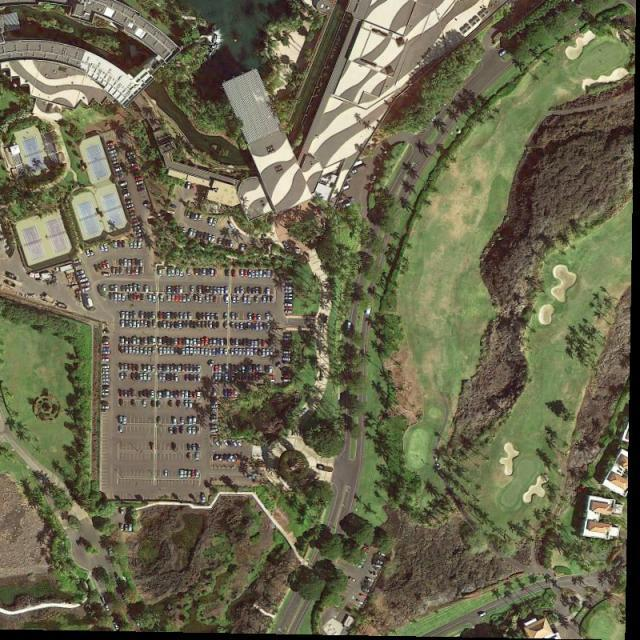vehicle: (349, 161, 364, 169), (353, 165, 366, 174), (87, 295, 94, 308), (6, 279, 16, 287), (355, 559, 366, 566), (366, 302, 372, 314), (499, 50, 508, 58), (374, 559, 384, 566), (354, 563, 364, 570), (363, 542, 373, 549), (340, 186, 350, 193), (357, 598, 365, 606), (229, 222, 237, 230), (430, 114, 438, 122), (440, 101, 448, 109), (129, 154, 138, 161), (57, 302, 66, 309), (81, 281, 90, 288), (378, 551, 387, 558), (343, 202, 352, 209), (126, 151, 136, 157), (223, 454, 230, 462), (219, 454, 226, 462), (214, 454, 222, 461), (94, 265, 101, 273), (362, 546, 370, 553), (371, 175, 378, 183), (131, 161, 140, 167), (8, 274, 17, 280), (78, 274, 87, 280), (212, 218, 218, 227), (188, 229, 194, 238), (211, 235, 217, 244), (362, 587, 371, 593), (363, 580, 372, 586), (358, 556, 367, 562), (133, 292, 138, 302), (232, 441, 239, 448), (214, 440, 221, 447), (98, 264, 105, 271), (360, 593, 367, 600), (100, 244, 106, 252), (114, 622, 120, 630), (170, 204, 178, 210), (366, 576, 374, 582), (374, 563, 382, 569), (349, 577, 357, 583), (368, 184, 374, 192), (479, 612, 487, 618), (195, 452, 200, 461), (119, 399, 124, 408), (107, 142, 116, 147), (120, 182, 129, 187), (76, 270, 85, 275), (196, 231, 201, 240), (203, 232, 208, 241), (133, 311, 138, 320), (347, 322, 352, 331), (225, 287, 230, 296), (241, 287, 246, 296), (171, 268, 176, 277), (187, 268, 192, 277), (122, 596, 128, 603), (232, 455, 238, 462), (228, 455, 234, 462), (237, 441, 243, 448), (117, 171, 124, 177), (192, 230, 198, 237), (102, 263, 108, 270), (347, 177, 354, 183), (240, 245, 246, 252), (152, 321, 158, 328), (193, 417, 198, 425), (170, 374, 175, 382), (147, 374, 152, 382), (143, 374, 148, 382), (108, 146, 116, 151), (110, 153, 118, 158), (114, 163, 122, 168), (126, 200, 134, 205), (138, 185, 146, 190), (136, 177, 144, 182), (132, 166, 140, 171), (186, 182, 191, 190), (190, 184, 195, 192), (130, 214, 138, 219), (134, 222, 142, 227), (74, 258, 82, 263), (82, 286, 90, 291), (209, 218, 214, 226), (198, 295, 203, 303), (225, 296, 230, 304), (172, 286, 177, 294), (190, 286, 195, 294), (125, 312, 130, 320), (174, 313, 179, 321), (167, 294, 172, 302), (194, 268, 199, 276), (233, 270, 238, 278), (244, 270, 249, 278), (271, 270, 276, 278), (210, 360, 215, 368), (252, 365, 257, 373), (248, 322, 253, 330), (235, 339, 240, 347), (276, 363, 282, 369), (116, 167, 122, 173), (79, 278, 88, 282), (90, 249, 96, 255), (124, 258, 128, 267), (130, 293, 134, 302), (137, 293, 141, 302), (226, 239, 230, 248), (127, 267, 131, 276), (131, 267, 135, 276), (163, 312, 167, 321), (170, 312, 174, 321), (180, 268, 184, 277), (252, 270, 256, 279), (230, 241, 234, 250), (262, 349, 266, 358), (194, 365, 198, 374), (163, 321, 167, 330), (224, 440, 229, 447), (169, 427, 174, 434), (197, 392, 202, 399), (185, 375, 190, 382), (231, 375, 236, 382), (255, 374, 260, 381), (127, 204, 134, 209), (111, 157, 118, 162), (124, 193, 131, 198), (132, 218, 139, 223), (133, 285, 138, 292), (105, 605, 110, 612), (136, 620, 141, 627), (164, 470, 169, 477), (136, 260, 141, 267), (194, 214, 199, 221), (198, 215, 203, 222), (199, 232, 204, 239), (186, 295, 191, 302), (140, 312, 145, 319), (152, 313, 157, 320), (160, 295, 165, 302), (255, 288, 260, 295), (266, 289, 271, 296), (265, 366, 270, 373), (231, 339, 236, 346), (102, 389, 110, 393), (102, 402, 110, 406), (124, 417, 128, 425), (158, 417, 162, 425), (102, 358, 110, 362), (102, 354, 110, 358), (103, 338, 111, 342), (190, 401, 194, 409), (185, 401, 189, 409), (143, 400, 147, 408), (174, 418, 178, 426), (188, 427, 192, 435), (211, 409, 219, 413), (175, 374, 179, 382), (222, 374, 226, 382), (226, 374, 230, 382), (239, 374, 243, 382), (162, 374, 166, 382), (166, 374, 170, 382), (151, 390, 155, 398), (182, 391, 186, 399), (214, 389, 218, 397), (224, 390, 228, 398), (158, 391, 162, 399), (143, 390, 147, 398), (133, 390, 137, 398), (120, 390, 124, 398), (125, 364, 129, 372), (188, 470, 192, 478), (144, 202, 152, 206), (130, 241, 134, 249), (105, 243, 109, 251), (181, 470, 185, 478), (122, 294, 126, 302), (110, 294, 114, 302), (114, 294, 118, 302), (118, 294, 122, 302), (149, 294, 153, 302), (202, 494, 206, 502), (128, 259, 132, 267), (134, 230, 142, 234), (218, 238, 222, 246), (222, 238, 226, 246), (106, 262, 110, 270), (103, 273, 111, 277), (120, 267, 124, 275), (170, 365, 174, 373), (285, 306, 293, 310), (206, 295, 210, 303), (248, 297, 252, 305), (286, 310, 294, 314), (285, 303, 293, 307), (286, 286, 294, 290), (180, 286, 184, 294), (198, 286, 202, 294), (202, 286, 206, 294), (206, 286, 210, 294), (258, 314, 262, 322), (254, 314, 258, 322), (122, 312, 126, 320), (145, 312, 149, 320), (167, 313, 171, 321), (176, 294, 180, 302), (172, 294, 176, 302), (434, 454, 438, 462), (176, 268, 180, 276), (199, 268, 203, 276), (210, 269, 214, 277), (268, 270, 272, 278), (266, 314, 270, 322), (174, 347, 178, 355), (178, 348, 182, 356), (186, 348, 190, 356), (163, 348, 167, 356), (246, 349, 250, 357), (250, 349, 254, 357), (266, 349, 270, 357), (262, 340, 266, 348), (258, 340, 262, 348), (285, 334, 293, 338), (159, 348, 163, 356), (186, 365, 190, 373), (242, 366, 246, 374), (215, 366, 219, 374), (218, 366, 222, 374), (222, 366, 226, 374), (283, 358, 291, 362), (132, 347, 136, 355), (148, 348, 152, 356), (125, 338, 129, 346), (256, 323, 260, 331), (137, 321, 141, 329), (158, 321, 162, 329), (167, 322, 171, 330), (178, 321, 182, 329), (122, 320, 126, 328), (217, 322, 221, 330), (225, 322, 229, 330), (129, 338, 133, 346), (133, 338, 137, 346), (145, 338, 149, 346), (149, 338, 153, 346), (153, 338, 157, 346), (158, 338, 162, 346), (162, 338, 166, 346), (167, 338, 171, 346), (183, 338, 187, 346), (258, 348, 262, 356), (248, 339, 252, 347), (228, 442, 234, 447), (114, 160, 120, 165), (119, 174, 125, 179), (129, 208, 135, 213), (130, 211, 136, 216), (140, 189, 146, 194), (190, 214, 195, 220), (436, 464, 441, 470), (356, 603, 362, 608), (248, 288, 253, 294), (238, 350, 243, 356), (103, 378, 110, 382), (103, 386, 110, 390), (103, 406, 110, 410), (119, 426, 123, 433), (103, 347, 110, 351), (103, 342, 110, 346), (103, 330, 110, 334), (178, 401, 182, 408), (158, 402, 162, 409), (196, 471, 200, 478), (189, 453, 193, 460), (188, 444, 192, 451), (174, 427, 178, 434), (181, 427, 185, 434), (211, 429, 218, 433), (211, 418, 218, 422), (132, 399, 136, 406), (249, 374, 253, 381), (190, 375, 194, 382), (197, 375, 201, 382), (215, 374, 219, 381), (235, 375, 239, 382), (129, 364, 133, 371), (133, 364, 137, 371), (143, 366, 147, 373), (158, 365, 162, 372), (178, 392, 182, 399), (174, 391, 178, 398), (170, 391, 174, 398), (139, 391, 143, 398), (121, 364, 125, 371), (136, 374, 140, 381), (192, 471, 196, 478), (110, 150, 117, 154), (122, 190, 129, 194), (134, 242, 138, 249), (137, 181, 144, 185), (135, 174, 142, 178), (138, 242, 142, 249), (122, 241, 126, 248), (134, 226, 141, 230), (120, 259, 124, 266), (132, 260, 136, 267), (153, 295, 157, 302), (129, 524, 133, 531), (182, 228, 186, 235), (187, 211, 191, 218), (116, 268, 120, 275), (210, 295, 214, 302), (243, 297, 247, 304), (263, 296, 267, 303), (267, 296, 271, 303), (271, 296, 275, 303), (183, 295, 187, 302), (286, 290, 293, 294), (167, 286, 171, 293), (210, 287, 214, 294), (249, 314, 253, 321), (231, 313, 235, 320), (189, 313, 193, 320), (197, 313, 201, 320), (206, 313, 210, 320), (222, 288, 226, 295), (236, 288, 240, 295), (206, 269, 210, 276), (214, 270, 218, 277), (226, 270, 230, 277), (256, 271, 260, 278), (264, 271, 268, 278), (260, 323, 264, 330), (174, 365, 178, 372), (182, 349, 186, 356), (190, 349, 194, 356), (209, 350, 213, 357), (216, 349, 220, 356), (220, 349, 224, 356), (243, 349, 247, 356), (254, 349, 258, 356), (270, 350, 274, 357), (284, 354, 291, 358), (182, 366, 186, 373), (190, 366, 194, 373), (256, 366, 260, 373), (249, 366, 253, 373), (152, 348, 156, 355), (232, 366, 236, 373), (125, 347, 129, 354), (129, 347, 133, 354), (144, 348, 148, 355), (186, 321, 190, 328), (130, 321, 134, 328), (190, 321, 194, 328), (210, 322, 214, 329), (240, 323, 244, 330), (244, 323, 248, 330), (126, 321, 130, 328), (254, 341, 258, 348), (190, 340, 194, 347), (141, 339, 145, 346), (171, 339, 175, 346), (186, 340, 190, 347), (194, 340, 198, 347), (198, 340, 202, 347), (202, 340, 206, 347), (210, 339, 214, 346), (217, 339, 221, 346), (283, 379, 292, 382), (140, 259, 143, 268), (136, 266, 139, 275), (206, 348, 209, 357), (229, 365, 232, 374), (102, 393, 110, 396), (103, 375, 111, 378), (103, 382, 111, 385), (102, 410, 110, 413), (119, 417, 123, 423), (102, 366, 110, 369), (103, 351, 111, 354), (170, 401, 174, 407), (151, 401, 155, 407), (193, 445, 197, 451), (193, 427, 196, 435), (219, 374, 222, 382), (269, 375, 275, 379), (269, 379, 275, 383), (283, 375, 291, 378), (270, 366, 273, 374), (152, 366, 156, 372), (159, 374, 162, 382), (186, 390, 189, 398), (167, 390, 170, 398), (229, 390, 232, 398), (235, 390, 238, 398), (163, 390, 166, 398), (148, 391, 151, 399), (128, 392, 132, 398), (125, 390, 128, 398), (185, 470, 188, 478), (74, 263, 82, 266), (87, 250, 91, 256), (114, 242, 118, 248), (118, 242, 122, 248), (110, 286, 114, 292), (114, 286, 118, 292), (126, 286, 130, 292), (146, 286, 149, 294), (141, 294, 144, 302), (121, 509, 125, 515), (209, 234, 212, 242), (134, 234, 142, 237), (113, 267, 116, 275), (195, 295, 198, 303), (256, 297, 260, 303), (286, 297, 294, 300), (286, 294, 294, 297), (180, 294, 183, 302), (218, 288, 222, 294), (130, 313, 133, 321), (149, 312, 152, 320), (159, 312, 162, 320), (184, 314, 188, 320), (202, 314, 206, 320), (214, 288, 218, 294), (339, 200, 345, 204), (252, 289, 256, 295), (159, 269, 162, 277), (241, 269, 244, 277), (249, 270, 252, 278), (260, 270, 263, 278), (213, 349, 216, 357), (231, 349, 234, 357), (167, 347, 170, 355), (122, 338, 125, 346), (237, 366, 240, 374), (178, 366, 182, 372), (198, 366, 201, 374), (260, 365, 263, 373), (239, 366, 242, 374), (136, 348, 140, 354), (140, 348, 144, 354), (285, 338, 293, 341), (134, 322, 138, 328), (171, 322, 174, 330), (175, 322, 179, 328), (197, 322, 201, 328), (206, 321, 209, 329), (214, 322, 217, 330), (253, 322, 256, 330), (179, 338, 182, 346), (206, 339, 209, 347), (214, 340, 218, 346), (103, 372, 110, 375), (103, 369, 110, 372), (103, 345, 110, 348), (182, 418, 185, 425), (197, 444, 200, 451), (212, 426, 219, 429), (194, 375, 197, 382), (243, 375, 246, 382), (253, 374, 256, 381), (136, 365, 139, 372), (148, 365, 151, 372), (190, 392, 193, 399), (121, 373, 124, 380), (133, 374, 136, 381), (140, 374, 143, 381), (103, 285, 106, 292), (122, 286, 125, 293), (130, 285, 133, 292), (121, 525, 124, 532), (163, 365, 166, 372), (167, 365, 170, 372), (233, 296, 236, 303), (237, 295, 240, 302), (286, 300, 293, 303), (236, 314, 239, 321), (180, 313, 183, 320), (216, 314, 219, 321), (225, 314, 228, 321), (264, 323, 267, 330), (294, 248, 301, 251), (171, 348, 174, 355), (202, 349, 205, 356), (235, 349, 238, 356), (284, 351, 291, 354), (226, 366, 229, 373), (122, 347, 125, 354), (141, 321, 144, 328), (145, 320, 148, 327), (148, 321, 151, 328), (183, 321, 186, 328), (194, 322, 197, 329), (236, 323, 239, 330), (231, 322, 234, 329), (137, 339, 140, 346), (175, 339, 178, 346), (252, 341, 255, 348), (225, 339, 228, 346), (240, 339, 243, 346), (194, 350, 198, 355), (212, 402, 218, 405), (212, 406, 218, 409), (152, 444, 155, 450), (211, 415, 217, 418), (194, 393, 197, 399), (138, 286, 141, 292), (126, 525, 129, 531), (211, 314, 214, 320), (203, 269, 206, 275), (225, 350, 228, 356), (198, 349, 201, 355), (202, 322, 205, 328), (244, 340, 247, 346), (197, 427, 199, 435), (232, 390, 234, 398), (169, 269, 171, 277), (190, 418, 192, 425), (125, 373, 127, 380), (177, 287, 179, 294), (222, 339, 224, 346)
